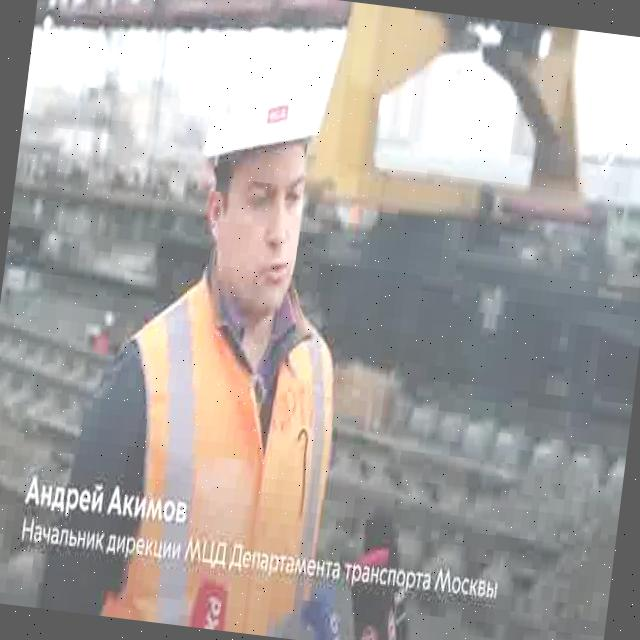vest: (80, 251, 352, 640)
